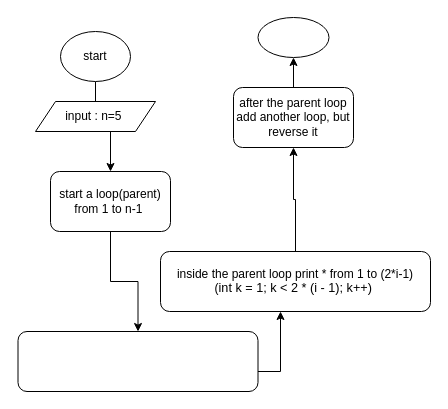
Some shapes in this 448 by 409 pixel diagram are drawn without their labels. The box of each missing label's shape, as (x1, y1, x2, y2) in pixels:
end: (257, 16, 329, 58)
Print spaces based on the iterations (int j = n - i - 1; j >= 1; j--): (17, 330, 258, 392)
